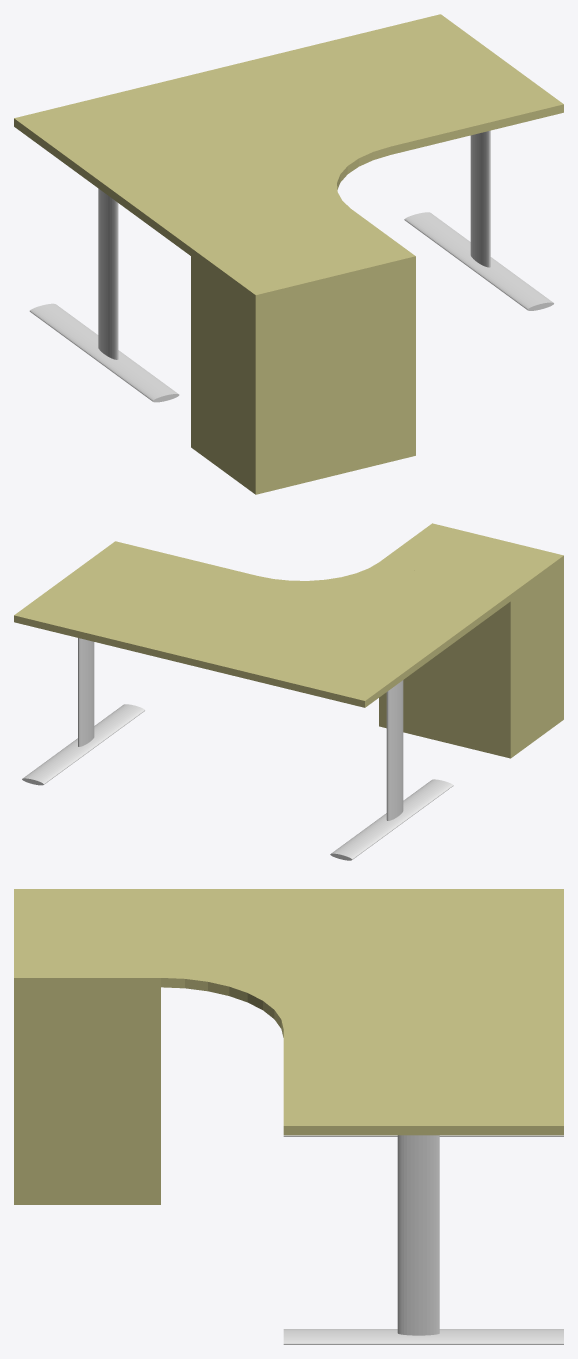
The model's file is desk_right.dae.
The picture shows the model from 3 angles, top to bottom: view 1: azimuth 30°, elevation 25°; view 2: azimuth 150°, elevation 25°; view 3: azimuth 270°, elevation 25°; orthographic projection. The views are drawn at different scales.
Parts seen in each view (by area): view 1: desk_right, desk_right_Cube, desk_right_Cylinder; view 2: desk_right, desk_right_Cube, desk_right_Cylinder; view 3: desk_right, desk_right_Cube, desk_right_Cylinder.
Boxes of the visible parts, <box> form: desk_right: <box>29,14,563,494</box>; desk_right_Cube: <box>14,79,350,255</box>; desk_right_Cylinder: <box>470,130,490,267</box>; desk_right: <box>14,523,563,860</box>; desk_right_Cube: <box>233,562,510,707</box>; desk_right_Cylinder: <box>78,638,94,746</box>; desk_right: <box>14,889,563,1344</box>; desk_right_Cube: <box>161,889,563,977</box>; desk_right_Cylinder: <box>397,1135,439,1335</box>.
Size of the model in its own units: 1.6 by 1.57 by 0.715.
